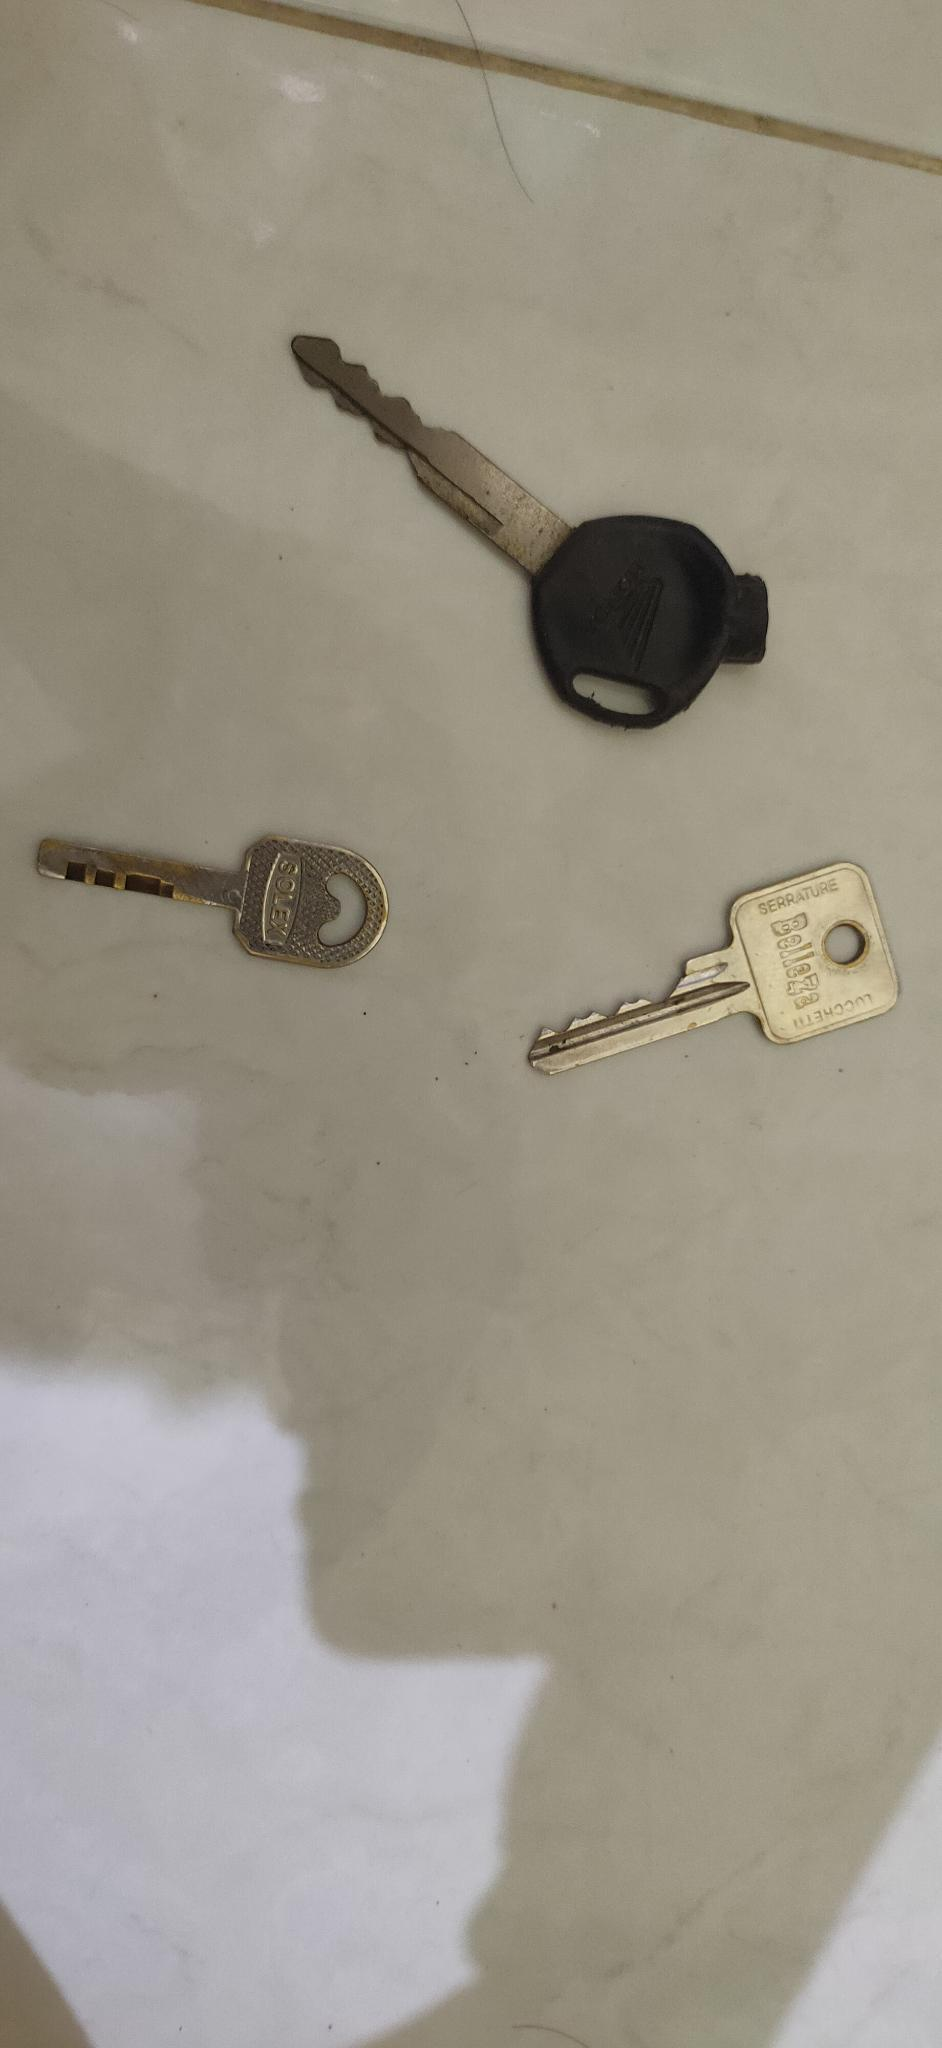keys: (268, 282, 789, 742), (503, 852, 922, 1096), (22, 815, 391, 987)
